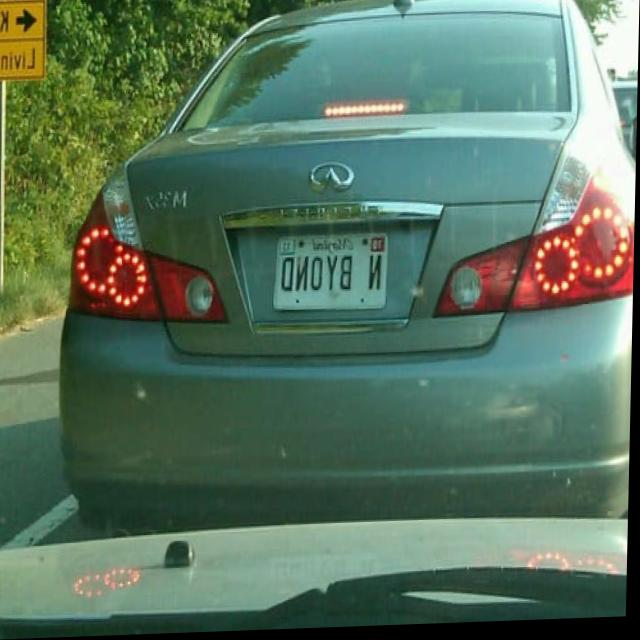licence: (278, 234, 390, 309)
